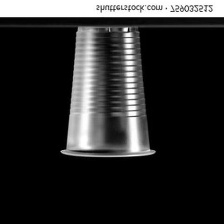glass: (56, 23, 161, 161)
